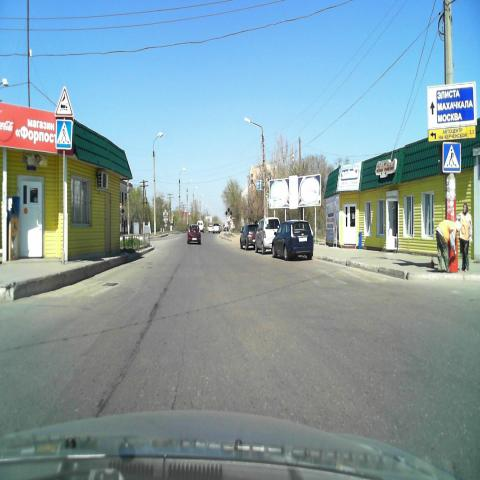1_2: (54, 86, 73, 116)
